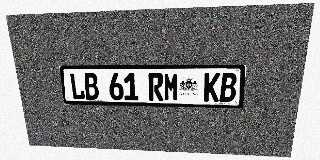1: (123, 73, 139, 101)
6: (108, 73, 124, 100)
B: (219, 73, 237, 102), (83, 73, 99, 100)
K: (203, 73, 220, 102)
L: (69, 73, 85, 100)
M: (164, 73, 179, 101)
R: (148, 73, 163, 101)
